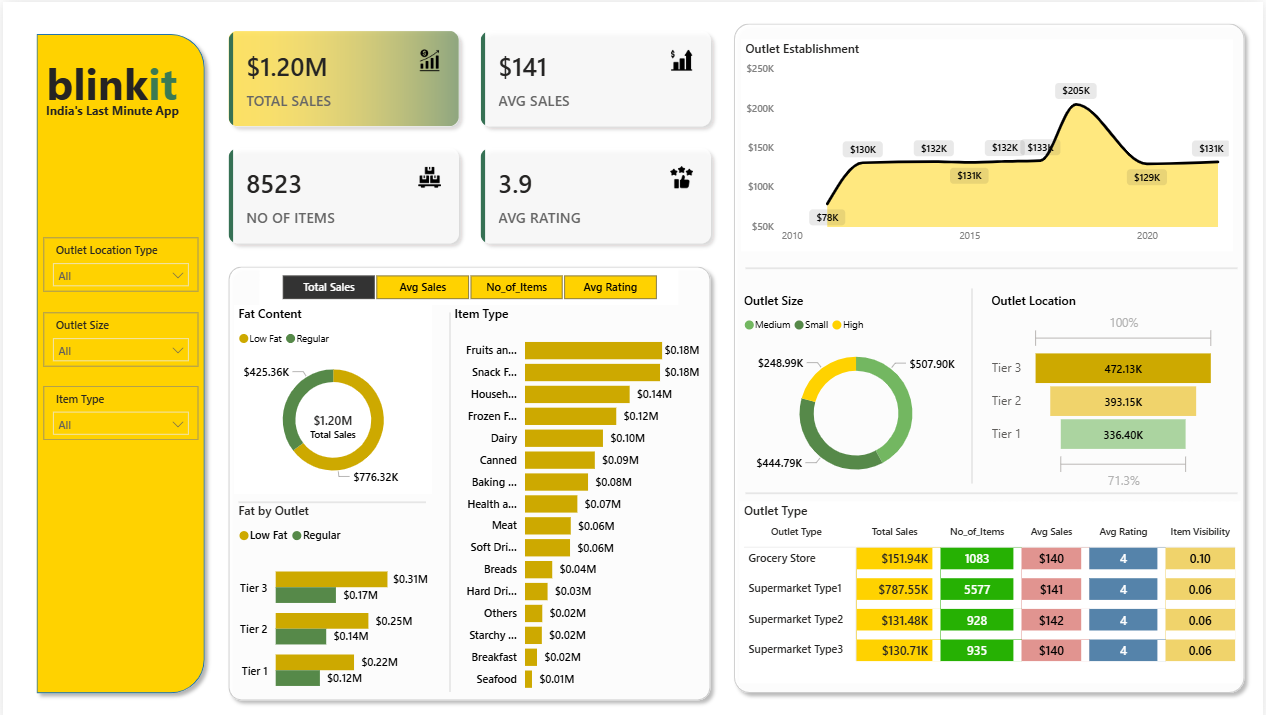

The dashboard page shown, as its layout file describes it:
{"tool":"powerbi","page":{"name":"Page 1","canvas":[1400,800],"ordinal":0},"visuals":[{"type":"shape","box":[803.3,15,585,761.7],"z":0},{"type":"shape","box":[241.7,285,553.3,500],"z":1000},{"type":"shape","box":[28.9,26.9,204.6,750.3],"z":2000},{"type":"textbox","box":[44,52,156,84],"z":3000},{"type":"textbox","box":[30,105,183.3,30],"z":4000},{"type":"cardVisual","fields":{"Data":["BlinkIT Grocery Data.Total Sales","BlinkIT Grocery Data.Avg Sales","BlinkIT Grocery Data.No_of_Items","BlinkIT Grocery Data.Avg Rating"]},"box":[233.3,15,570,270],"z":5000},{"type":"donutChart","title":"Fat Content","fields":{"Y":["BlinkIT Grocery Data.Total Sales"],"Category":["BlinkIT Grocery Data.Item Fat Content"]},"box":[256.7,336.7,220,210],"z":6000},{"type":"slicer","fields":{"Values":["Metrics.Metrics"]},"box":[285,296.7,465,40],"z":7000},{"type":"cardVisual","fields":{"Data":["BlinkIT Grocery Data.Total Sales"]},"box":[300,430,133.3,83.3],"z":8000},{"type":"clusteredBarChart","title":"Fat by Outlet","fields":{"Y":["BlinkIT Grocery Data.Total Sales"],"Category":["BlinkIT Grocery Data.Outlet Location Type"],"Series":["BlinkIT Grocery Data.Item Fat Content"]},"box":[256.7,555,220,230],"z":9000},{"type":"shape","box":[261.7,536.7,208.3,38.3],"z":10000},{"type":"shape","box":[490,345,13.3,421.7],"z":11000},{"type":"barChart","title":"Item Type","fields":{"Y":["BlinkIT Grocery Data.Total Sales"],"Category":["BlinkIT Grocery Data.Item Type"]},"box":[496.7,336.7,281.7,440],"z":12000},{"type":"lineChart","title":"Outlet Establishment","fields":{"Category":["BlinkIT Grocery Data.Outlet Establishment Year"],"Y":["BlinkIT Grocery Data.Total Sales"]},"box":[820,41.7,546.7,235],"z":13000},{"type":"shape","box":[825,276.7,546.7,38.3],"z":14000},{"type":"donutChart","title":"Outlet Size","fields":{"Y":["BlinkIT Grocery Data.Total Sales"],"Category":["BlinkIT Grocery Data.Outlet Size"]},"box":[818.3,321.7,258.3,225],"z":15000},{"type":"shape","box":[1070,318.3,13.3,216.7],"z":16000},{"type":"funnel","title":"Outlet Location","fields":{"Category":["BlinkIT Grocery Data.Outlet Location Type"],"Y":["Sum(BlinkIT Grocery Data.Sales)"]},"box":[1093.3,321.7,258.3,225],"z":17000},{"type":"shape","box":[825,526.7,546.7,38.3],"z":18000},{"type":"pivotTable","title":"Outlet Type","fields":{"Rows":["BlinkIT Grocery Data.Outlet Type"],"Values":["BlinkIT Grocery Data.Total Sales","BlinkIT Grocery Data.No_of_Items","BlinkIT Grocery Data.Avg Sales","BlinkIT Grocery Data.Avg Rating","Avg(BlinkIT Grocery Data.Item Visibility)"]},"box":[818.3,555,556.7,201.7],"z":19000},{"type":"slicer","fields":{"Values":["BlinkIT Grocery Data.Outlet Location Type"]},"box":[45,261.7,171.7,60],"z":20000},{"type":"slicer","fields":{"Values":["BlinkIT Grocery Data.Outlet Size"]},"box":[45,345,171.7,60],"z":21000},{"type":"slicer","fields":{"Values":["BlinkIT Grocery Data.Item Type"]},"box":[45,426.7,171.7,60],"z":22000}]}

Visuals, with their boxes in screenshot pixels (x1, y1, x2, y2), scaled from the page's 1400x800 canvas onto the 1266x715 screenshot:
shape: 726:13:1255:694
shape: 219:255:719:702
shape: 26:24:211:695
textbox: 40:46:181:122
textbox: 27:94:193:121
cardVisual - BlinkIT Grocery Data.Total Sales x BlinkIT Grocery Data.Avg Sales: 211:13:726:255
"Fat Content" donutChart: 232:301:431:489
slicer - Metrics.Metrics: 258:265:678:301
cardVisual - BlinkIT Grocery Data.Total Sales: 271:384:392:459
"Fat by Outlet" clusteredBarChart: 232:496:431:702
shape: 237:480:425:514
shape: 443:308:455:685
"Item Type" barChart: 449:301:704:694
"Outlet Establishment" lineChart: 742:37:1236:247
shape: 746:247:1240:282
"Outlet Size" donutChart: 740:288:974:489
shape: 968:284:980:478
"Outlet Location" funnel: 989:288:1222:489
shape: 746:471:1240:505
"Outlet Type" pivotTable: 740:496:1243:676
slicer - BlinkIT Grocery Data.Outlet Location Type: 41:234:196:288
slicer - BlinkIT Grocery Data.Outlet Size: 41:308:196:362
slicer - BlinkIT Grocery Data.Item Type: 41:381:196:435
